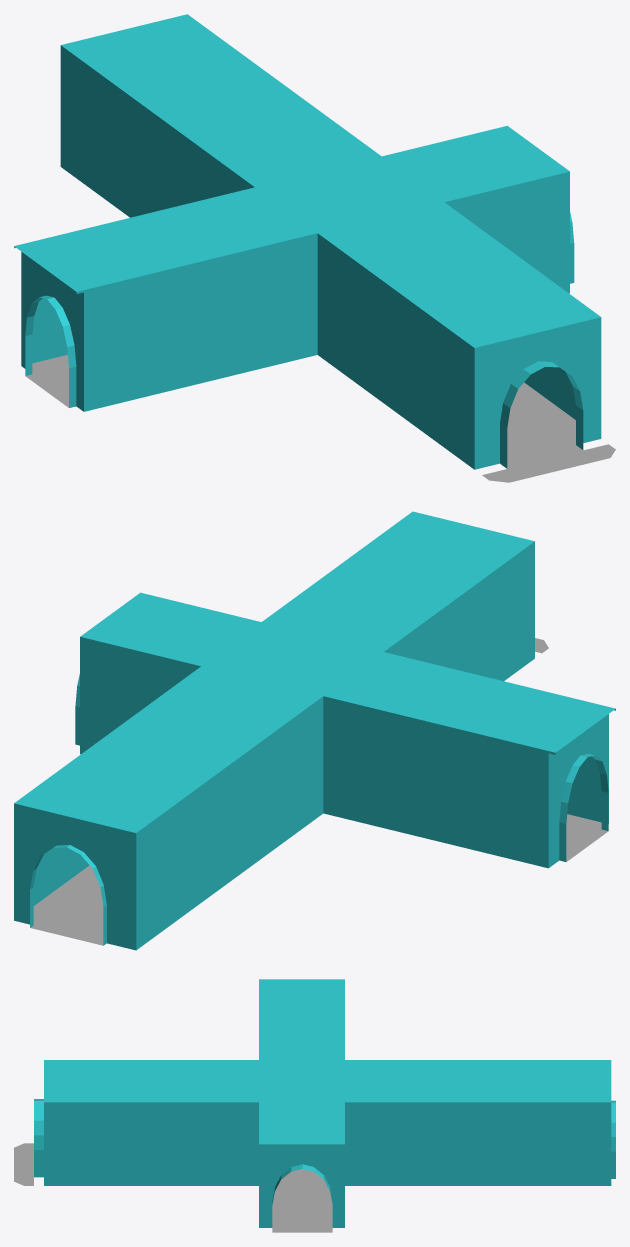
The model's file is crossing.fbx.
The picture shows the model from 3 angles, top to bottom: view 1: azimuth 30°, elevation 25°; view 2: azimuth 150°, elevation 25°; view 3: azimuth 270°, elevation 25°; orthographic projection. The views are drawn at different scales.
Parts seen in each view (by area): view 1: crossing; view 2: crossing; view 3: crossing.
Part boxes in pixels (box(x1,y1,x2,y2)): crossing: box(14, 14, 615, 482); crossing: box(14, 511, 615, 950); crossing: box(14, 979, 615, 1232).
Bounding box in the file's own units: 492 × 113 × 737.
